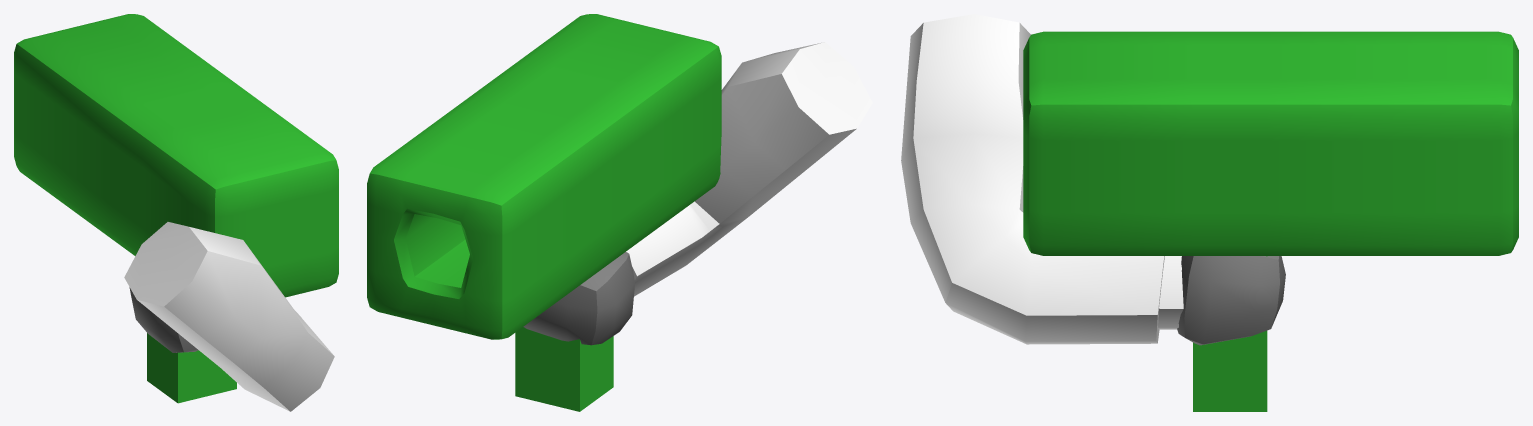
File: die_arm_bullet.gltf
3 views of the same model, side by side, from view 1: azimuth 30°, elevation 25°; view 2: azimuth 150°, elevation 25°; view 3: azimuth 270°, elevation 25° (orthographic). The views are drawn at different scales.
Visible parts, largest first — view 1: die_arm_bullet-Mat.2, die_arm_bullet-Mat, die_arm_bullet-Mat.1; view 2: die_arm_bullet-Mat.2, die_arm_bullet-Mat, die_arm_bullet-Mat.1; view 3: die_arm_bullet-Mat.2, die_arm_bullet-Mat, die_arm_bullet-Mat.1.
Boxes of the visible parts, x1=… form: die_arm_bullet-Mat.2: x1=14, y1=14, x2=338, y2=403; die_arm_bullet-Mat: x1=124, y1=222, x2=334, y2=411; die_arm_bullet-Mat.1: x1=129, y1=287, x2=198, y2=352; die_arm_bullet-Mat.2: x1=367, y1=14, x2=721, y2=411; die_arm_bullet-Mat: x1=626, y1=42, x2=872, y2=296; die_arm_bullet-Mat.1: x1=523, y1=252, x2=634, y2=345; die_arm_bullet-Mat.2: x1=1023, y1=31, x2=1518, y2=411; die_arm_bullet-Mat: x1=901, y1=14, x2=1183, y2=344; die_arm_bullet-Mat.1: x1=1177, y1=256, x2=1285, y2=345.
Size of the model in its own units: 152 by 175 by 294.
